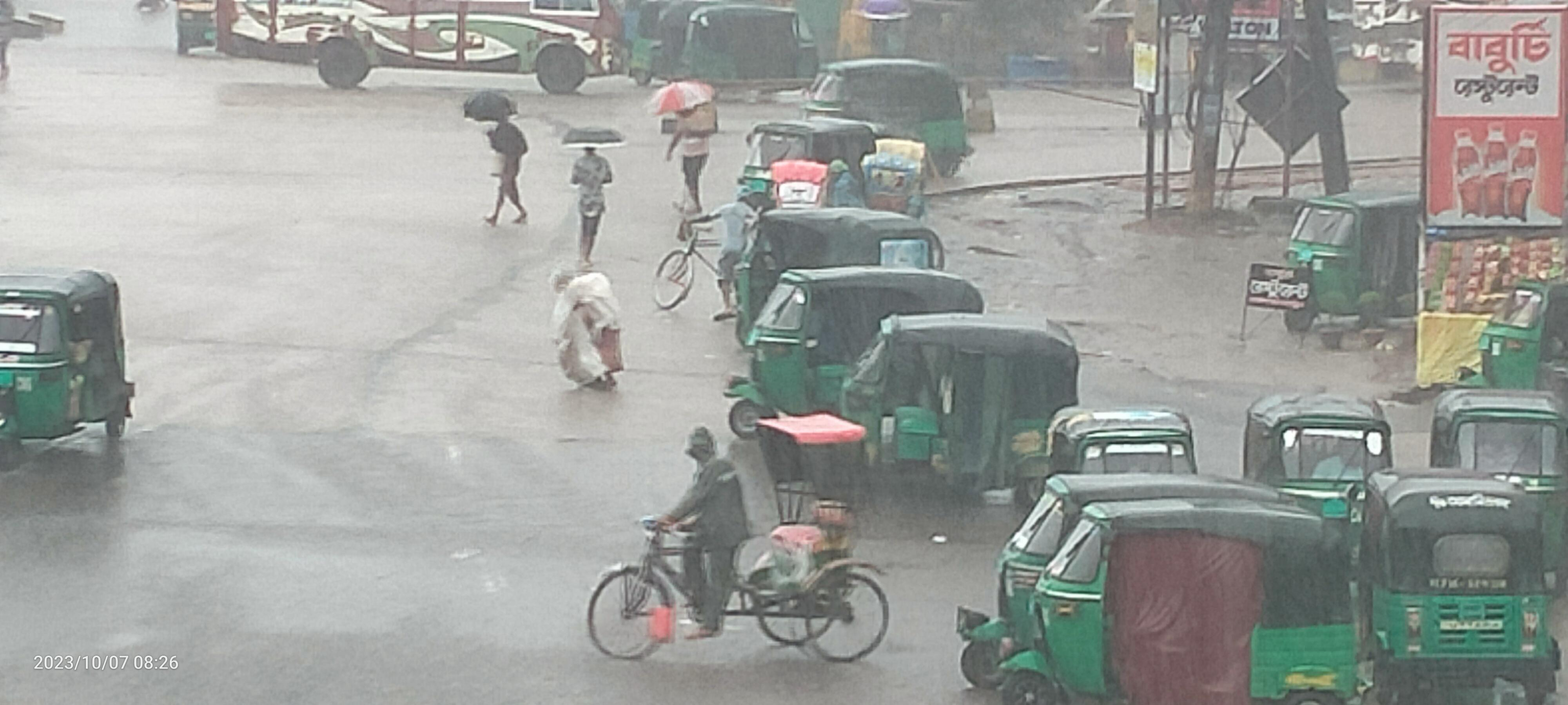Bus: (183, 0, 682, 130)
Car: (541, 373, 925, 685)
